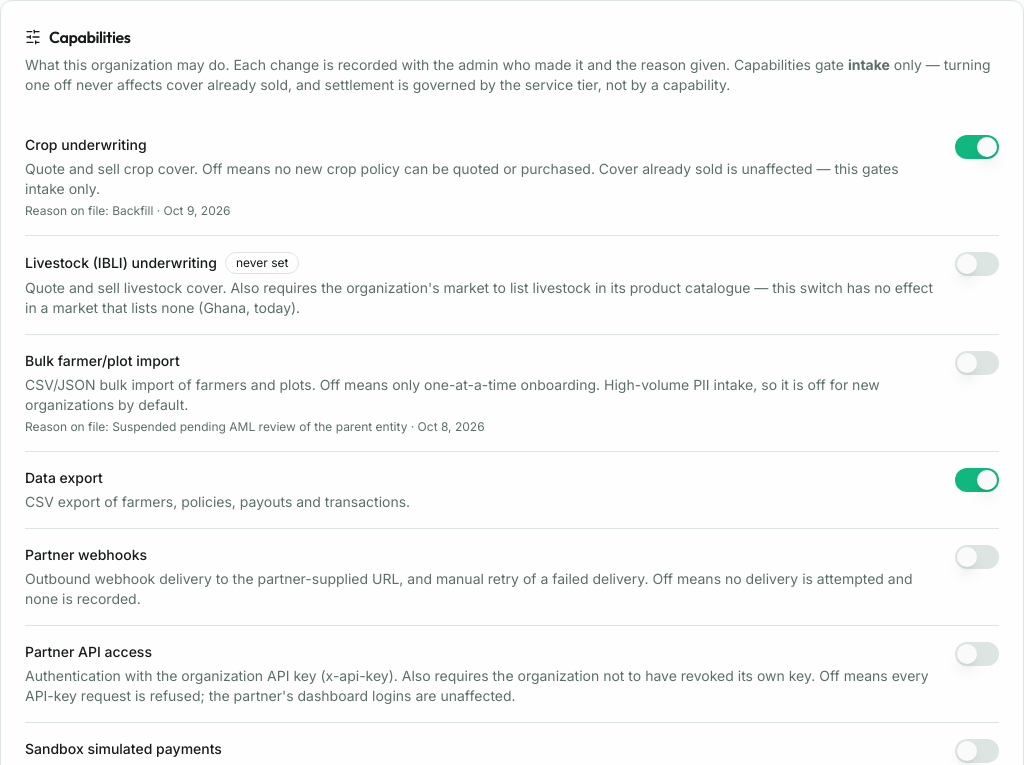
Test: flipping a capability › does not write anything on the switch alone — it opens the reason dialog
Step 1. Click the switch named "Bulk farmer/plot import" in the row of "Bulk farmer/plot import" → (977, 363), box [955,351,999,375]
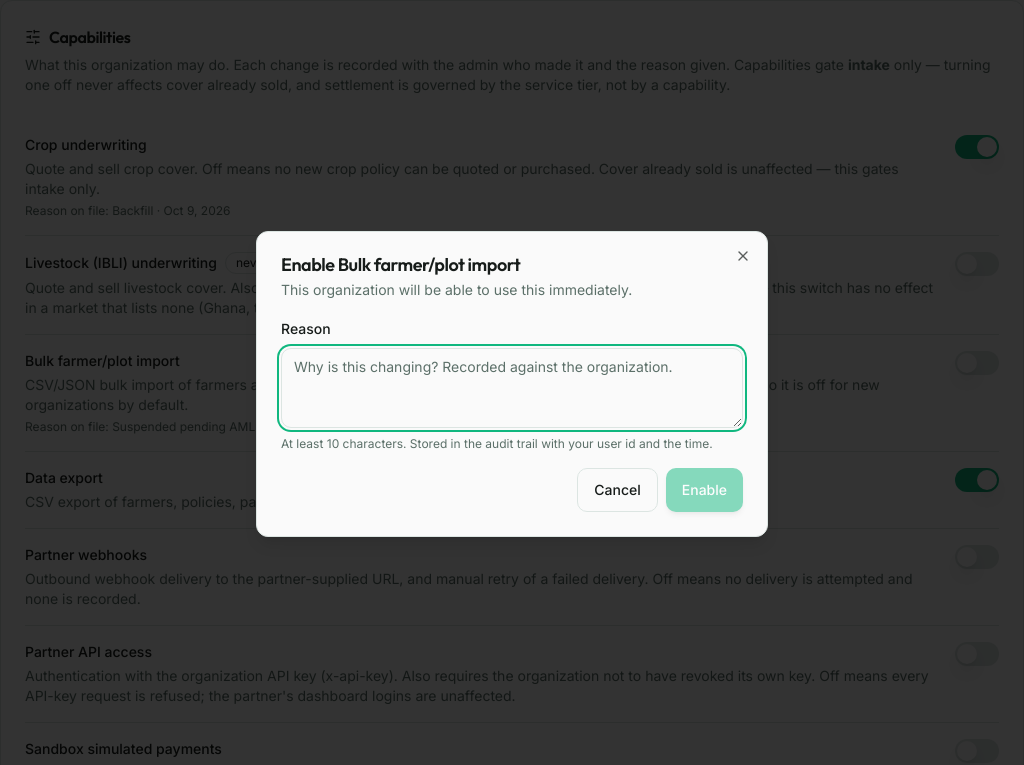
expect the text box labelled "Reason" is shown: met, box [281,348,743,428]
